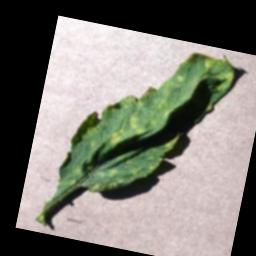Leaf_Mold: (125, 110, 149, 136), (107, 127, 125, 147)
